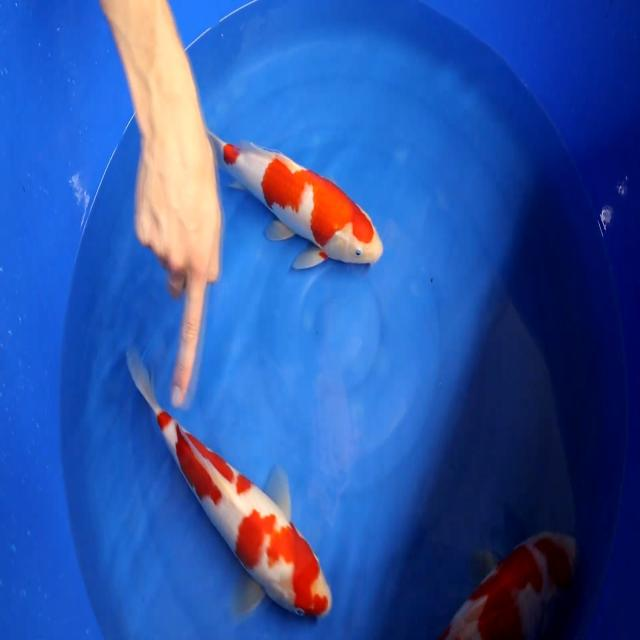Kohaku: (125, 346, 332, 618), (205, 124, 384, 271), (439, 529, 579, 638)
